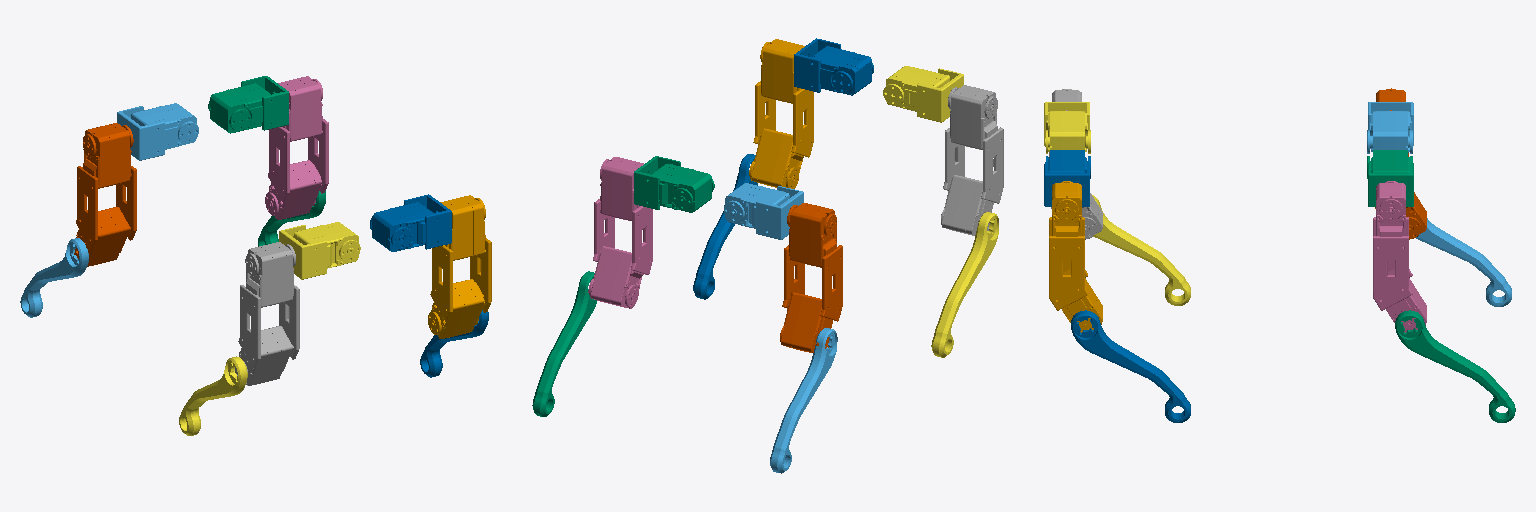
robot.urdf — WAVEGO:
<?xml version="1.0" ?>
<robot name="WAVEGO">

<link name="base_link">
  <inertial>
    <origin xyz="4.629913587071468e-06 0.0008541357983545728 0.02527208057319014" rpy="0 0 0"/>
    <mass value="0.75"/>
    <inertia ixx="0.004576" iyy="0.001514" izz="0.005545" ixy="0.0" iyz="0.0" ixz="0.0"/>
  </inertial>
  <visual>
    <origin xyz="0 0 0" rpy="0 0 0"/>
    <geometry><mesh filename="base_link.stl" scale="0.001 0.001 0.001"/></geometry>
    <material name="silver"/>
  </visual>
  <collision>
    <origin xyz="0 0 0" rpy="0 0 0"/>
    <geometry><mesh filename="base_link.stl" scale="0.001 0.001 0.001"/></geometry>
  </collision>
</link>

<!-- Hip Links -->
<link name="FL_hip">
  <inertial>
    <origin xyz="-0.02319126187595901 0.01879798849608902 -4.180014100720053e-07" rpy="0 0 0"/>
    <mass value="0.07"/>
    <inertia ixx="1.5e-05" iyy="2.68e-05" izz="3.3e-05" ixy="0.0" iyz="0.0" ixz="0.0"/>
  </inertial>
  <visual>
    <origin xyz="0.0245 -0.114266 -0.025234" rpy="0 0 0"/>
    <geometry><mesh filename="FL_hip_1.stl" scale="0.001 0.001 0.001"/></geometry>
    <material name="silver"/>
  </visual>
  <collision>
    <origin xyz="0.0245 -0.114266 -0.025234" rpy="0 0 0"/>
    <geometry><mesh filename="FL_hip_1.stl" scale="0.001 0.001 0.001"/></geometry>
  </collision>
</link>

<link name="FR_hip">
  <inertial>
    <origin xyz="0.023191261877654377 0.018797988496071977 -3.5685197443888206e-07" rpy="0 0 0"/>
    <mass value="0.07"/>
    <inertia ixx="1.5e-05" iyy="2.68e-05" izz="3.3e-05" ixy="0.0" iyz="0.0" ixz="0.0"/>
  </inertial>
  <visual>
    <origin xyz="-0.0245 -0.114266 -0.025234" rpy="0 0 0"/>
    <geometry><mesh filename="FR_hip_1.stl" scale="0.001 0.001 0.001"/></geometry>
    <material name="silver"/>
  </visual>
  <collision>
    <origin xyz="-0.0245 -0.114266 -0.025234" rpy="0 0 0"/>
    <geometry><mesh filename="FR_hip_1.stl" scale="0.001 0.001 0.001"/></geometry>
  </collision>
</link>

<link name="RL_hip">
  <inertial>
    <origin xyz="-0.023191261875960753 -0.018797237818405393 -3.568526728628396e-07" rpy="0 0 0"/>
    <mass value="0.07"/>
    <inertia ixx="1.5e-05" iyy="2.68e-05" izz="3.3e-05" ixy="0.0" iyz="0.0" ixz="0.0"/>
  </inertial>
  <visual>
    <origin xyz="0.0245 0.112734 -0.025234" rpy="0 0 0"/>
    <geometry><mesh filename="RL_hip_1.stl" scale="0.001 0.001 0.001"/></geometry>
    <material name="silver"/>
  </visual>
  <collision>
    <origin xyz="0.0245 0.112734 -0.025234" rpy="0 0 0"/>
    <geometry><mesh filename="RL_hip_1.stl" scale="0.001 0.001 0.001"/></geometry>
  </collision>
</link>

<link name="RR_hip">
  <inertial>
    <origin xyz="0.023191261877654294 -0.018797237818421075 -4.1800070709613335e-07" rpy="0 0 0"/>
    <mass value="0.07"/>
    <inertia ixx="1.5e-05" iyy="2.68e-05" izz="3.3e-05" ixy="0.0" iyz="0.0" ixz="0.0"/>
  </inertial>
  <visual>
    <origin xyz="-0.0245 0.112734 -0.025234" rpy="0 0 0"/>
    <geometry><mesh filename="RR_hip_1.stl" scale="0.001 0.001 0.001"/></geometry>
    <material name="silver"/>
  </visual>
  <collision>
    <origin xyz="-0.0245 0.112734 -0.025234" rpy="0 0 0"/>
    <geometry><mesh filename="RR_hip_1.stl" scale="0.001 0.001 0.001"/></geometry>
  </collision>
</link>

<!-- Thigh Links -->
<link name="FL_thigh">
  <inertial>
    <origin xyz="-0.01970845141862286 0.0028015258976535895 -0.052315121957901674" rpy="0 0 0"/>
    <mass value="0.12"/>
    <inertia ixx="0.000153" iyy="0.000167" izz="3.5e-05" ixy="0.0" iyz="0.0" ixz="0.0"/>
  </inertial>
  <visual>
    <origin xyz="0.071 -0.133866 -0.025234" rpy="0 0 0"/>
    <geometry><mesh filename="FL_thigh_1.stl" scale="0.001 0.001 0.001"/></geometry>
    <material name="silver"/>
  </visual>
  <collision>
    <origin xyz="0.071 -0.133866 -0.025234" rpy="0 0 0"/>
    <geometry><mesh filename="FL_thigh_1.stl" scale="0.001 0.001 0.001"/></geometry>
  </collision>
</link>

<link name="FR_thigh">
  <inertial>
    <origin xyz="0.019708452445206706 0.0027932494546228648 -0.05231812285470108" rpy="0 0 0"/>
    <mass value="0.12"/>
    <inertia ixx="0.000153" iyy="0.000167" izz="3.5e-05" ixy="0.0" iyz="0.0" ixz="0.0"/>
  </inertial>
  <visual>
    <origin xyz="-0.071 -0.133866 -0.025234" rpy="0 0 0"/>
    <geometry><mesh filename="FR_thigh_1.stl" scale="0.001 0.001 0.001"/></geometry>
    <material name="silver"/>
  </visual>
  <collision>
    <origin xyz="-0.071 -0.133866 -0.025234" rpy="0 0 0"/>
    <geometry><mesh filename="FR_thigh_1.stl" scale="0.001 0.001 0.001"/></geometry>
  </collision>
</link>

<link name="RL_thigh">
  <inertial>
    <origin xyz="-0.019708452443622543 0.002801526868147386 -0.052315136197844156" rpy="0 0 0"/>
    <mass value="0.12"/>
    <inertia ixx="0.000153" iyy="0.000167" izz="3.5e-05" ixy="0.0" iyz="0.0" ixz="0.0"/>
  </inertial>
  <visual>
    <origin xyz="0.071 0.132334 -0.025234" rpy="0 0 0"/>
    <geometry><mesh filename="RL_thigh_1.stl" scale="0.001 0.001 0.001"/></geometry>
    <material name="silver"/>
  </visual>
  <collision>
    <origin xyz="0.071 0.132334 -0.025234" rpy="0 0 0"/>
    <geometry><mesh filename="RL_thigh_1.stl" scale="0.001 0.001 0.001"/></geometry>
  </collision>
</link>

<link name="RR_thigh">
  <inertial>
    <origin xyz="0.019708452445206706 0.002793249454622948 -0.052318122854697884" rpy="0 0 0"/>
    <mass value="0.12"/>
    <inertia ixx="0.000153" iyy="0.000167" izz="3.5e-05" ixy="0.0" iyz="0.0" ixz="0.0"/>
  </inertial>
  <visual>
    <origin xyz="-0.071 0.132334 -0.025234" rpy="0 0 0"/>
    <geometry><mesh filename="RR_thigh_1.stl" scale="0.001 0.001 0.001"/></geometry>
    <material name="silver"/>
  </visual>
  <collision>
    <origin xyz="-0.071 0.132334 -0.025234" rpy="0 0 0"/>
    <geometry><mesh filename="RR_thigh_1.stl" scale="0.001 0.001 0.001"/></geometry>
  </collision>
</link>

<!-- Calf Links -->
<link name="FL_calf">
  <inertial>
    <origin xyz="-0.004499999876559219 0.037277144723405264 -0.03580328685629376" rpy="0 0 0"/>
    <mass value="0.02"/>
    <inertia ixx="2.7e-05" iyy="1.2e-05" izz="1.5e-05" ixy="0.0" iyz="0.0" ixz="0.0"/>
  </inertial>
  <visual>
    <origin xyz="0.1062 -0.146588 0.075767" rpy="0 0 0"/>
    <geometry><mesh filename="FL_calf_1.stl" scale="0.001 0.001 0.001"/></geometry>
    <material name="silver"/>
  </visual>
  <collision>
    <origin xyz="0.1062 -0.146588 0.075767" rpy="0 0 0"/>
    <geometry><mesh filename="FL_calf_1.stl" scale="0.001 0.001 0.001"/></geometry>
  </collision>
</link>

<link name="FR_calf">
  <inertial>
    <origin xyz="0.004499999880704333 0.03727393846783095 -0.03580662749063558" rpy="0 0 0"/>
    <mass value="0.02"/>
    <inertia ixx="2.7e-05" iyy="1.2e-05" izz="1.5e-05" ixy="0.0" iyz="0.0" ixz="0.0"/>
  </inertial>
  <visual>
    <origin xyz="-0.1102 -0.149161 0.075814" rpy="0 0 0"/>
    <geometry><mesh filename="FR_calf_1.stl" scale="0.001 0.001 0.001"/></geometry>
    <material name="silver"/>
  </visual>
  <collision>
    <origin xyz="-0.1102 -0.149161 0.075814" rpy="0 0 0"/>
    <geometry><mesh filename="FR_calf_1.stl" scale="0.001 0.001 0.001"/></geometry>
  </collision>
</link>

<link name="RL_calf">
  <inertial>
    <origin xyz="-0.002999999876561424 0.037276868216588835 -0.035803204648581874" rpy="0 0 0"/>
    <mass value="0.02"/>
    <inertia ixx="2.7e-05" iyy="1.2e-05" izz="1.5e-05" ixy="0.0" iyz="0.0" ixz="0.0"/>
  </inertial>
  <visual>
    <origin xyz="0.1102 0.117012 0.075805" rpy="0 0 0"/>
    <geometry><mesh filename="RL_calf_1.stl" scale="0.001 0.001 0.001"/></geometry>
    <material name="silver"/>
  </visual>
  <collision>
    <origin xyz="0.1102 0.117012 0.075805" rpy="0 0 0"/>
    <geometry><mesh filename="RL_calf_1.stl" scale="0.001 0.001 0.001"/></geometry>
  </collision>
</link>

<link name="RR_calf">
  <inertial>
    <origin xyz="0.0044999998807064845 0.03727393846783113 -0.03580662749063199" rpy="0 0 0"/>
    <mass value="0.02"/>
    <inertia ixx="2.7e-05" iyy="1.2e-05" izz="1.5e-05" ixy="0.0" iyz="0.0" ixz="0.0"/>
  </inertial>
  <visual>
    <origin xyz="-0.1102 0.117039 0.075814" rpy="0 0 0"/>
    <geometry><mesh filename="RR_calf_1.stl" scale="0.001 0.001 0.001"/></geometry>
    <material name="silver"/>
  </visual>
  <collision>
    <origin xyz="-0.1102 0.117039 0.075814" rpy="0 0 0"/>
    <geometry><mesh filename="RR_calf_1.stl" scale="0.001 0.001 0.001"/></geometry>
  </collision>
</link>

<!-- Joints -->
<joint name="FL_hip_joint" type="revolute">
  <origin xyz="-0.0245 0.114266 0.025234" rpy="0 0 0"/>
  <parent link="base_link"/><child link="FL_hip"/><axis xyz="0.0 -1.0 0.0"/>
  <limit upper="0.523599" lower="-0.523599" effort="1.96" velocity="11.1"/>
  <dynamics friction="0.4" damping="0.5"/>
</joint>

<joint name="FR_hip_joint" type="revolute">
  <origin xyz="0.0245 0.114266 0.025234" rpy="0 0 0"/>
  <parent link="base_link"/><child link="FR_hip"/><axis xyz="0.0 -1.0 -0.0"/>
  <limit upper="0.523599" lower="-0.523599" effort="1.96" velocity="11.1"/>
  <dynamics friction="0.4" damping="0.5"/>
</joint>

<joint name="RL_hip_joint" type="revolute">
  <origin xyz="-0.0245 -0.112734 0.025234" rpy="0 0 0"/>
  <parent link="base_link"/><child link="RL_hip"/><axis xyz="0.0 1.0 0.0"/>
  <limit upper="0.523599" lower="-0.523599" effort="1.96" velocity="11.1"/>
  <dynamics friction="0.4" damping="0.5"/>
</joint>

<joint name="RR_hip_joint" type="revolute">
  <origin xyz="0.0245 -0.112734 0.025234" rpy="0 0 0"/>
  <parent link="base_link"/><child link="RR_hip"/><axis xyz="0.0 1.0 0.0"/>
  <limit upper="0.523599" lower="-0.523599" effort="1.96" velocity="11.1"/>
  <dynamics friction="0.4" damping="0.5"/>
</joint>

<joint name="FL_thigh_joint" type="revolute">
  <origin xyz="-0.0465 0.0196 0.0" rpy="0 0 0"/>
  <parent link="FL_hip"/><child link="FL_thigh"/><axis xyz="1.0 -0.0 -0.0"/>
  <limit upper="2.094395" lower="-2.094395" effort="1.96" velocity="11.1"/>
  <dynamics friction="0.4" damping="0.5"/>
</joint>

<joint name="FR_thigh_joint" type="revolute">
  <origin xyz="0.0465 0.0196 0.0" rpy="0 0 0"/>
  <parent link="FR_hip"/><child link="FR_thigh"/><axis xyz="-1.0 0.0 0.0"/>
  <limit upper="2.094395" lower="-2.094395" effort="1.96" velocity="11.1"/>
  <dynamics friction="0.4" damping="0.5"/>
</joint>

<joint name="RL_thigh_joint" type="revolute">
  <origin xyz="-0.0465 -0.0196 0.0" rpy="0 0 0"/>
  <parent link="RL_hip"/><child link="RL_thigh"/><axis xyz="1.0 -0.0 -0.0"/>
  <limit upper="2.094395" lower="-2.094395" effort="1.96" velocity="11.1"/>
  <dynamics friction="0.4" damping="0.5"/>
</joint>

<joint name="RR_thigh_joint" type="revolute">
  <origin xyz="0.0465 -0.0196 0.0" rpy="0 0 0"/>
  <parent link="RR_hip"/><child link="RR_thigh"/><axis xyz="-1.0 0.0 0.0"/>
  <limit upper="2.094395" lower="-2.094395" effort="1.96" velocity="11.1"/>
  <dynamics friction="0.4" damping="0.5"/>
</joint>

<joint name="FL_calf_joint" type="revolute">
  <origin xyz="-0.0352 0.012722 -0.101001" rpy="0 0 0"/>
  <parent link="FL_thigh"/><child link="FL_calf"/><axis xyz="1.0 0.0 0.0"/>
  <limit upper="2.094395" lower="-2.094395" effort="1.96" velocity="11.1"/>
  <dynamics friction="0.4" damping="0.5"/>
</joint>

<joint name="FR_calf_joint" type="revolute">
  <origin xyz="0.0392 0.015295 -0.101048" rpy="0 0 0"/>
  <parent link="FR_thigh"/><child link="FR_calf"/><axis xyz="-1.0 0.0 0.0"/>
  <limit upper="2.094395" lower="-2.094395" effort="1.96" velocity="11.1"/>
  <dynamics friction="0.4" damping="0.5"/>
</joint>

<joint name="RL_calf_joint" type="revolute">
  <origin xyz="-0.0392 0.015322 -0.101039" rpy="0 0 0"/>
  <parent link="RL_thigh"/><child link="RL_calf"/><axis xyz="1.0 0.0 0.0"/>
  <limit upper="2.094395" lower="-2.094395" effort="1.96" velocity="11.1"/>
  <dynamics friction="0.4" damping="0.5"/>
</joint>

<joint name="RR_calf_joint" type="revolute">
  <origin xyz="0.0392 0.015295 -0.101048" rpy="0 0 0"/>
  <parent link="RR_thigh"/><child link="RR_calf"/><axis xyz="-1.0 0.0 -0.0"/>
  <limit upper="2.094395" lower="-2.094395" effort="1.96" velocity="11.1"/>
  <dynamics friction="0.4" damping="0.5"/>
</joint>

</robot>

--- Facts derived from the render (not from the file) ---
Views: 3 orthographic renders of the robot side by side, from view 1: azimuth 30°, elevation 25°; view 2: azimuth 150°, elevation 25°; view 3: azimuth 270°, elevation 25°.
Robot: WAVEGO — 13 links, 12 joints (12 revolute); root link base_link; default pose: every joint at zero.
Visible links, largest first — view 1: RL_thigh, FL_thigh, RR_thigh, FR_thigh, RR_hip, FR_hip, FL_hip, RL_hip, RL_calf, FL_calf, RR_calf, FR_calf; view 2: FL_thigh, RL_thigh, FR_thigh, RR_thigh, FR_hip, RR_hip, RL_hip, FL_hip, RL_calf, FL_calf, FR_calf, RR_calf; view 3: FR_thigh, RR_thigh, FR_calf, RR_calf, FL_hip, RL_hip, RL_calf, FL_calf, FR_hip, RR_hip, FL_thigh, RL_thigh.
Link boxes in pixels (<box>): RL_thigh: <box>235,242,299,385</box>; FL_thigh: <box>74,123,136,266</box>; RR_thigh: <box>428,195,491,338</box>; FR_thigh: <box>265,76,328,219</box>; RR_hip: <box>370,194,451,251</box>; FR_hip: <box>208,76,288,133</box>; FL_hip: <box>117,103,198,160</box>; RL_hip: <box>279,222,360,279</box>; RL_calf: <box>179,356,247,435</box>; FL_calf: <box>20,238,88,317</box>; RR_calf: <box>420,310,488,377</box>; FR_calf: <box>258,191,325,246</box>; FL_thigh: <box>780,203,842,352</box>; RL_thigh: <box>941,85,1003,235</box>; FR_thigh: <box>588,157,652,308</box>; RR_thigh: <box>749,39,813,188</box>; FR_hip: <box>634,156,714,212</box>; RR_hip: <box>794,38,873,95</box>; RL_hip: <box>883,66,963,122</box>; FL_hip: <box>724,183,803,239</box>; RL_calf: <box>931,212,998,357</box>; FL_calf: <box>770,328,837,473</box>; FR_calf: <box>532,271,596,416</box>; RR_calf: <box>693,154,757,299</box>; FR_thigh: <box>1373,181,1426,332</box>; RR_thigh: <box>1049,181,1102,332</box>; FR_calf: <box>1395,310,1515,422</box>; RR_calf: <box>1071,310,1190,422</box>; FL_hip: <box>1367,102,1413,153</box>; RL_hip: <box>1044,102,1090,153</box>; RL_calf: <box>1092,195,1190,305</box>; FL_calf: <box>1416,218,1511,306</box>; FR_hip: <box>1367,150,1413,206</box>; RR_hip: <box>1044,150,1090,206</box>; FL_thigh: <box>1375,88,1426,239</box>; RL_thigh: <box>1049,89,1102,239</box>.
Bounding box of the posed robot: 0.2399 × 0.3868 × 0.2037 m (x, y, z).
12 mesh visuals loaded from 13 distinct referenced files (12 binary STL); not drawn: 1 (reference not matched to a file when rendering).
